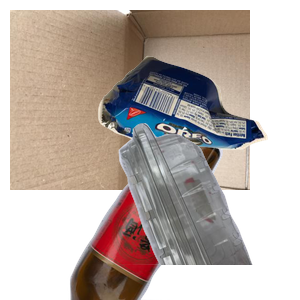cardboard: (10, 10, 250, 190)
glass: (67, 120, 282, 300)
plastic: (71, 120, 300, 300)
trash: (95, 53, 300, 195)
